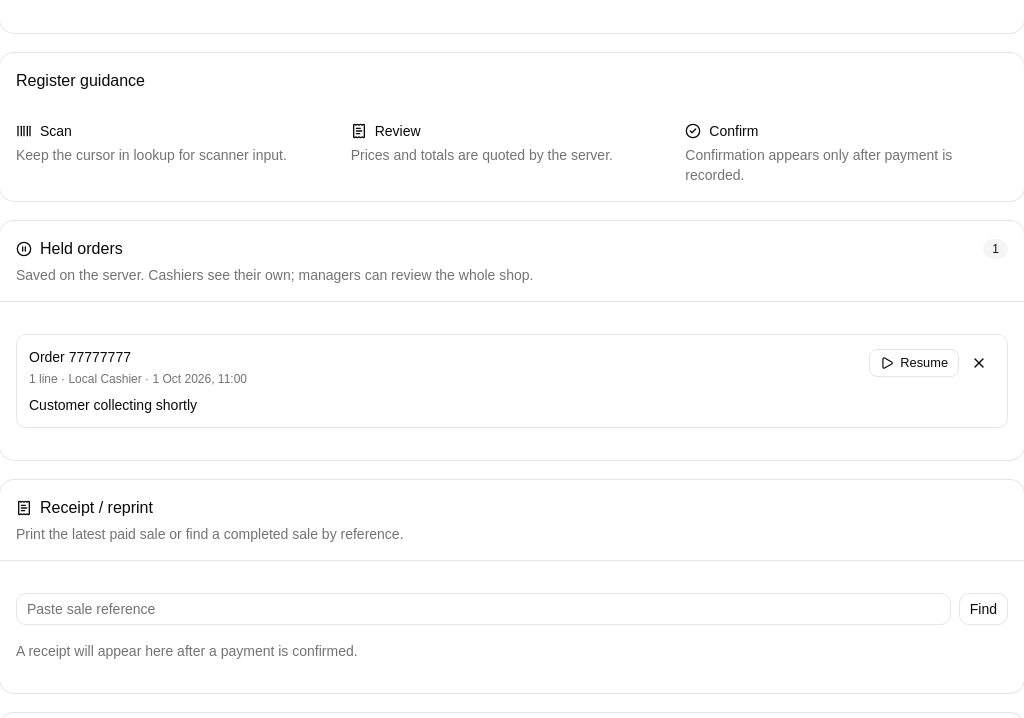
Test: cancels a held order through its server transition
(page scrolled)
Click the button named "Cancel held order 77777777".
click(979, 363)  # box [963,347,995,379]
(page scrolled)
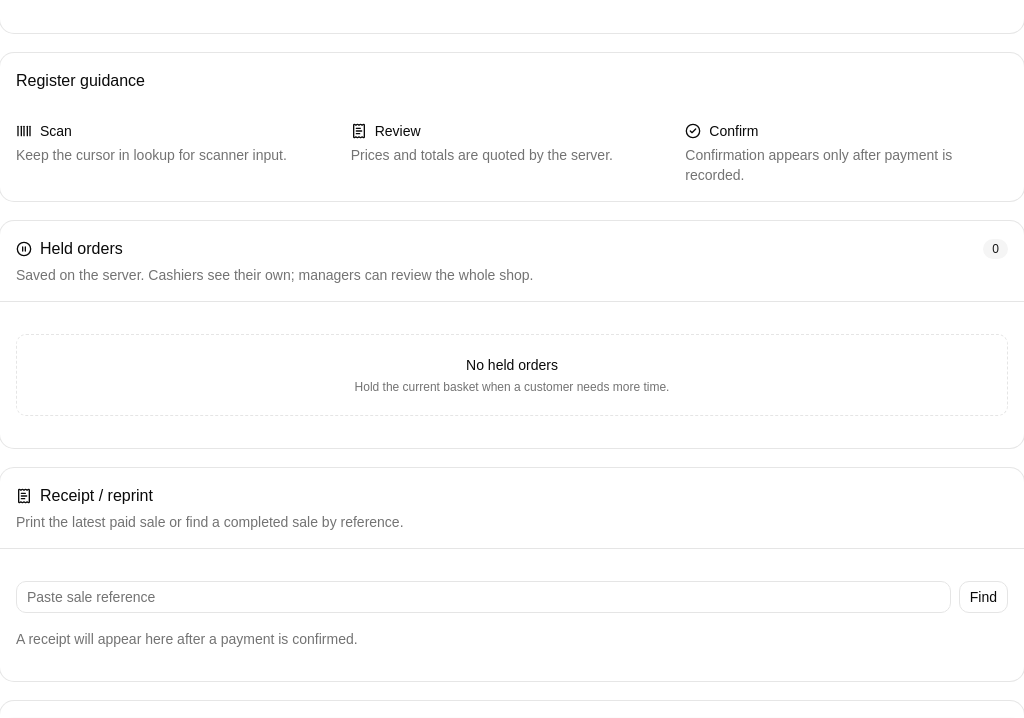
expect the text "No held orders" is shown: met, box [466,357,558,373]
